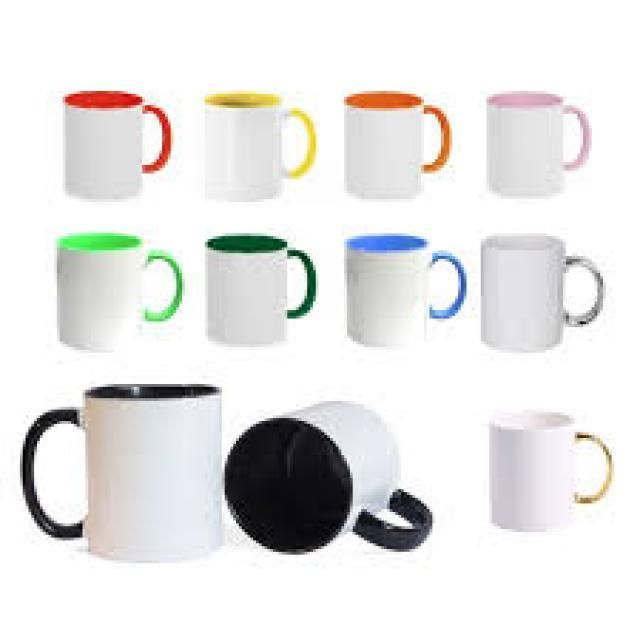taza: (222, 394, 448, 584), (16, 370, 226, 573), (43, 218, 184, 356), (482, 398, 614, 538), (340, 222, 472, 358), (482, 219, 606, 358), (202, 222, 324, 356), (196, 79, 322, 208), (340, 77, 456, 206), (482, 68, 594, 200), (59, 82, 174, 193)
